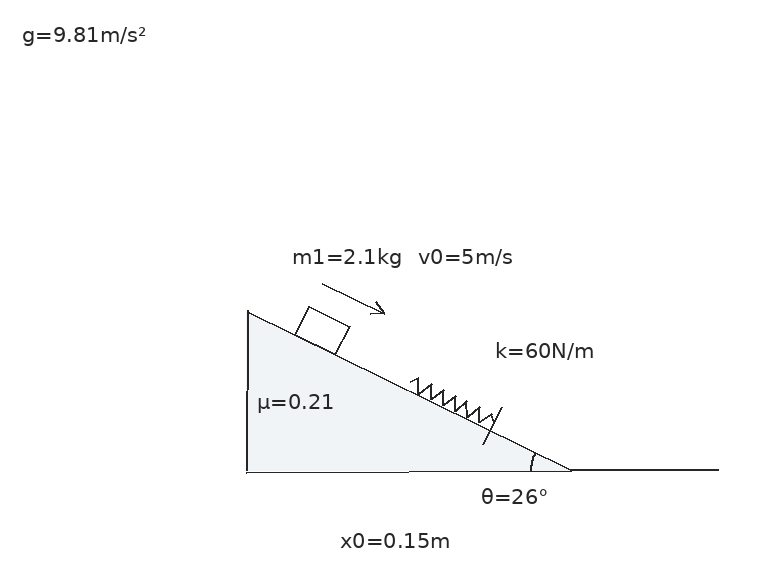block: (293, 304, 351, 357)
ramp: (245, 310, 573, 472)
spring: (407, 376, 496, 425)
